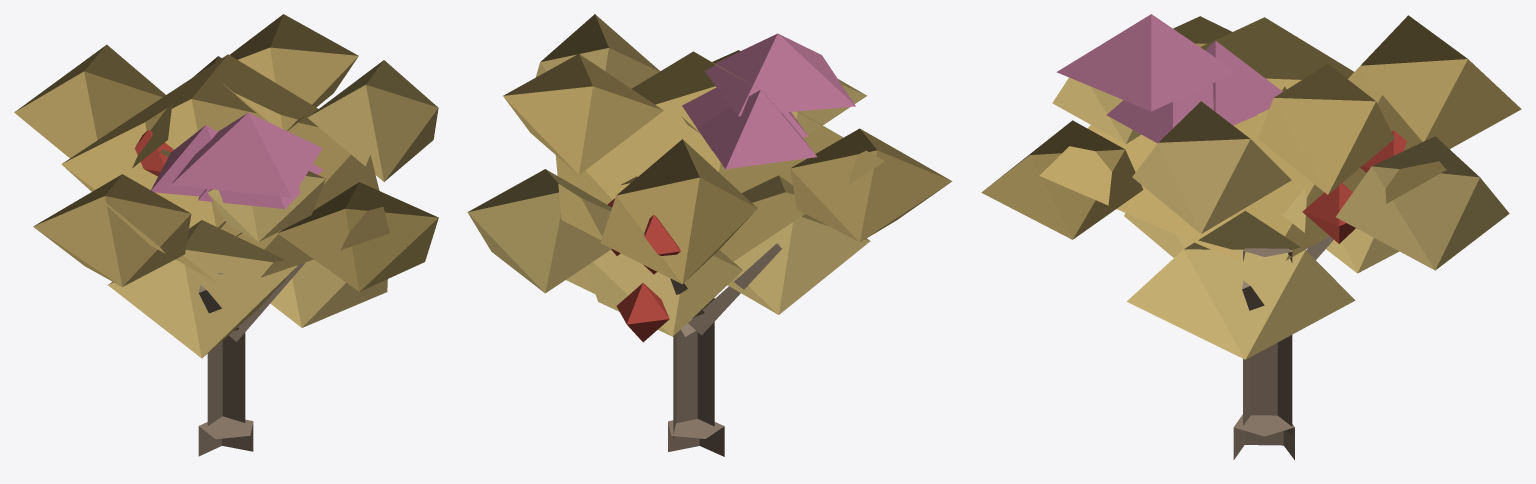
The model's file is tree.sub.tea_oil__autumn.glb.
3 views of the same model, side by side, from view 1: azimuth 30°, elevation 25°; view 2: azimuth 150°, elevation 25°; view 3: azimuth 270°, elevation 25° (orthographic). The views are drawn at different scales.
Visible parts, largest first — view 1: tree.sub.tea_oil__autumn; view 2: tree.sub.tea_oil__autumn; view 3: tree.sub.tea_oil__autumn.
Boxes of the visible parts, x1,y1,x2,y2 form: tree.sub.tea_oil__autumn: [14, 14, 438, 456]; tree.sub.tea_oil__autumn: [467, 14, 952, 456]; tree.sub.tea_oil__autumn: [981, 14, 1521, 459].
Size of the model in its own units: 7.08 by 7.16 by 7.99.
